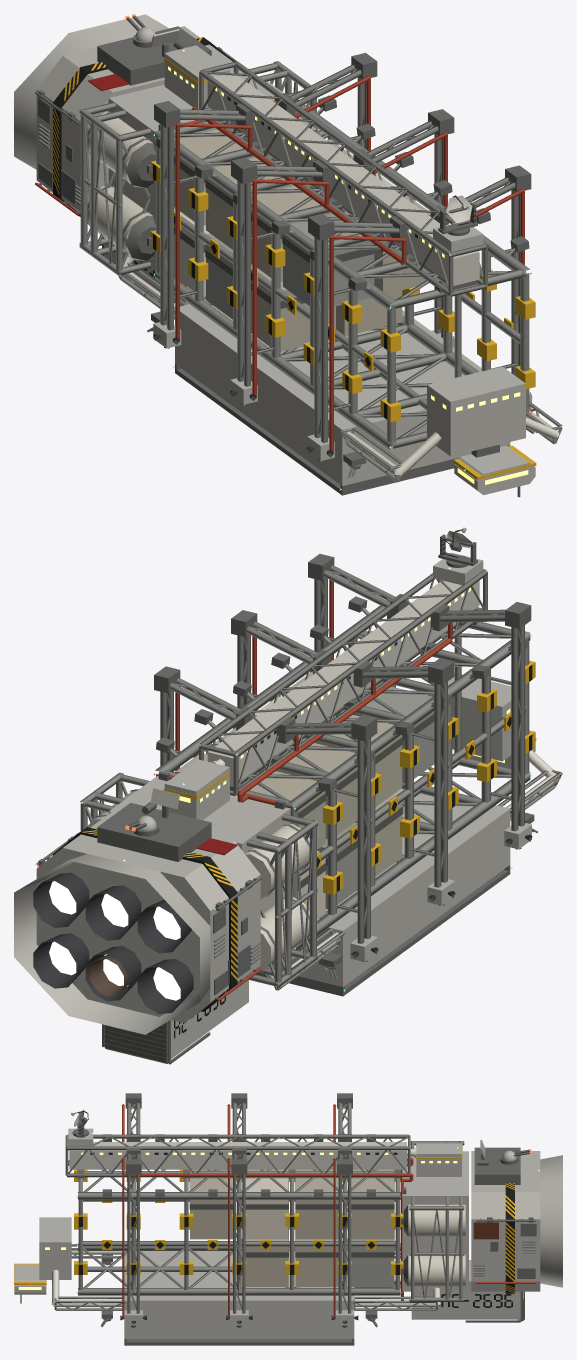
Rendered from crawler_allLiveries_14of24.glb.
The picture shows the model from 3 angles, top to bottom: view 1: azimuth 30°, elevation 25°; view 2: azimuth 150°, elevation 25°; view 3: azimuth 270°, elevation 25°; orthographic projection. The views are drawn at different scales.
Visible parts, largest first — view 1: trussFrame, berthHangar, spineDeck, spineFrame, crewCompartment, fuelRack, engineBlock, trussClamp, engineSkirt, leg3_frame, leg5_frame, leg1_frame (+39 smaller); view 2: trussFrame, engineBlock, berthHangar, spineDeck, spineFrame, engineSkirt, fuelRack, engineHousing, leg1_frame, leg5_frame, leg3_frame, serviceCore (+34 smaller); view 3: trussFrame, berthHangar, spineDeck, engineBlock, spineFrame, serviceCore, engineSkirt, fuelRack, bayHull, cargoCube8_body, cargoCube0_body, cargoCube4_body (+34 smaller).
Boxes of the visible parts, <box> form: trussFrame: <box>155,99,529,450</box>; berthHangar: <box>175,304,510,485</box>; spineDeck: <box>207,72,479,285</box>; spineFrame: <box>199,61,487,296</box>; crewCompartment: <box>427,366,525,456</box>; fuelRack: <box>79,61,317,276</box>; engineBlock: <box>36,26,233,211</box>; trussClamp: <box>150,160,535,422</box>; engineSkirt: <box>14,14,168,169</box>; leg3_frame: <box>237,166,322,386</box>; leg5_frame: <box>314,222,399,443</box>; leg1_frame: <box>160,109,245,330</box>; trussFrame: <box>155,600,530,950</box>; engineBlock: <box>36,811,260,1022</box>; berthHangar: <box>272,788,510,986</box>; spineDeck: <box>207,580,479,785</box>; spineFrame: <box>199,569,487,796</box>; engineSkirt: <box>14,854,210,1034</box>; fuelRack: <box>80,772,317,987</box>; engineHousing: <box>97,803,211,861</box>; leg1_frame: <box>285,722,370,943</box>; leg5_frame: <box>439,609,524,831</box>; leg3_frame: <box>362,666,447,887</box>; serviceCore: <box>108,776,290,982</box>; trussFrame: <box>78,1169,400,1295</box>; berthHangar: <box>124,1251,354,1338</box>; spineDeck: <box>69,1142,406,1169</box>; engineBlock: <box>471,1151,540,1291</box>; spineFrame: <box>65,1134,410,1177</box>; serviceCore: <box>402,1151,468,1291</box>; engineSkirt: <box>540,1155,562,1287</box>; fuelRack: <box>409,1141,464,1301</box>; bayHull: <box>411,1260,520,1319</box>; cargoCube8_body: <box>245,1178,288,1239</box>; cargoCube0_body: <box>351,1178,394,1239</box>; cargoCube4_body: <box>295,1178,338,1239</box>.
Size of the model in its own units: 153 by 200 by 478.
